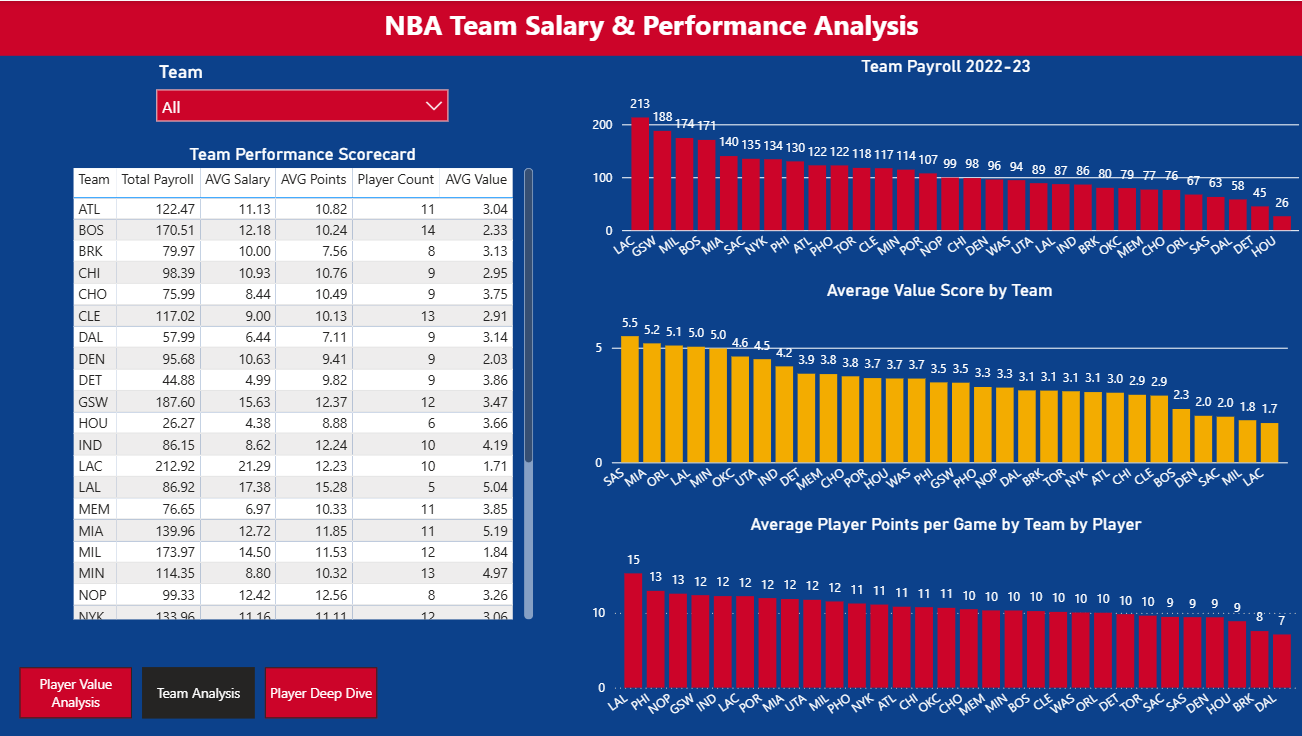

The page's visual inventory and layout, read from the dashboard file:
{"tool":"powerbi","page":{"name":"Team Analysis","canvas":[1280,720],"ordinal":1},"visuals":[{"type":"textbox","box":[0,0,1280.3,53.5],"z":0},{"type":"clusteredColumnChart","title":"Team Payroll 2022-23","fields":{"Category":["team_summary.Team"],"Y":["Sum(team_summary.total_payroll)"]},"box":[577.7,53.5,702.6,219.6],"z":1},{"type":"clusteredColumnChart","title":"Average Value Score by Team","fields":{"Category":["team_summary.Team"],"Y":["Avg(team_summary.avg_value)"]},"box":[577.7,273.1,690.2,227.8],"z":2},{"type":"tableEx","title":"Team Performance Scorecard","fields":{"Values":["team_summary.Team","team_summary.total_payroll","team_summary.avg_salary","team_summary.avg_points","team_summary.player_count","team_summary.avg_value"]},"box":[68.6,140,461.1,470.7],"z":3},{"type":"clusteredColumnChart","title":"Average Player Points per Game by Team by Player","fields":{"Category":["team_summary.Team"],"Y":["Avg(team_summary.avg_points)"]},"box":[577.7,500.9,702.6,219.6],"z":4},{"type":"slicer","fields":{"Values":["team_summary.Team"]},"box":[145.5,53.5,306,86.4],"z":5},{"type":"pageNavigator","box":[21.8,651.7,351.8,50.4],"z":6}]}

Visuals, with their boxes in screenshot pixels (x1, y1, x2, y2), scaled from the page's 1280x720 canvas onto the 1302x736 screenshot:
textbox: [left=0, top=0, right=1301, bottom=55]
"Team Payroll 2022-23" clusteredColumnChart: [left=588, top=55, right=1301, bottom=279]
"Average Value Score by Team" clusteredColumnChart: [left=588, top=279, right=1290, bottom=512]
"Team Performance Scorecard" tableEx: [left=70, top=143, right=539, bottom=624]
"Average Player Points per Game by Team by Player" clusteredColumnChart: [left=588, top=512, right=1301, bottom=735]
slicer - team_summary.Team: [left=148, top=55, right=459, bottom=143]
pageNavigator: [left=22, top=666, right=380, bottom=718]
